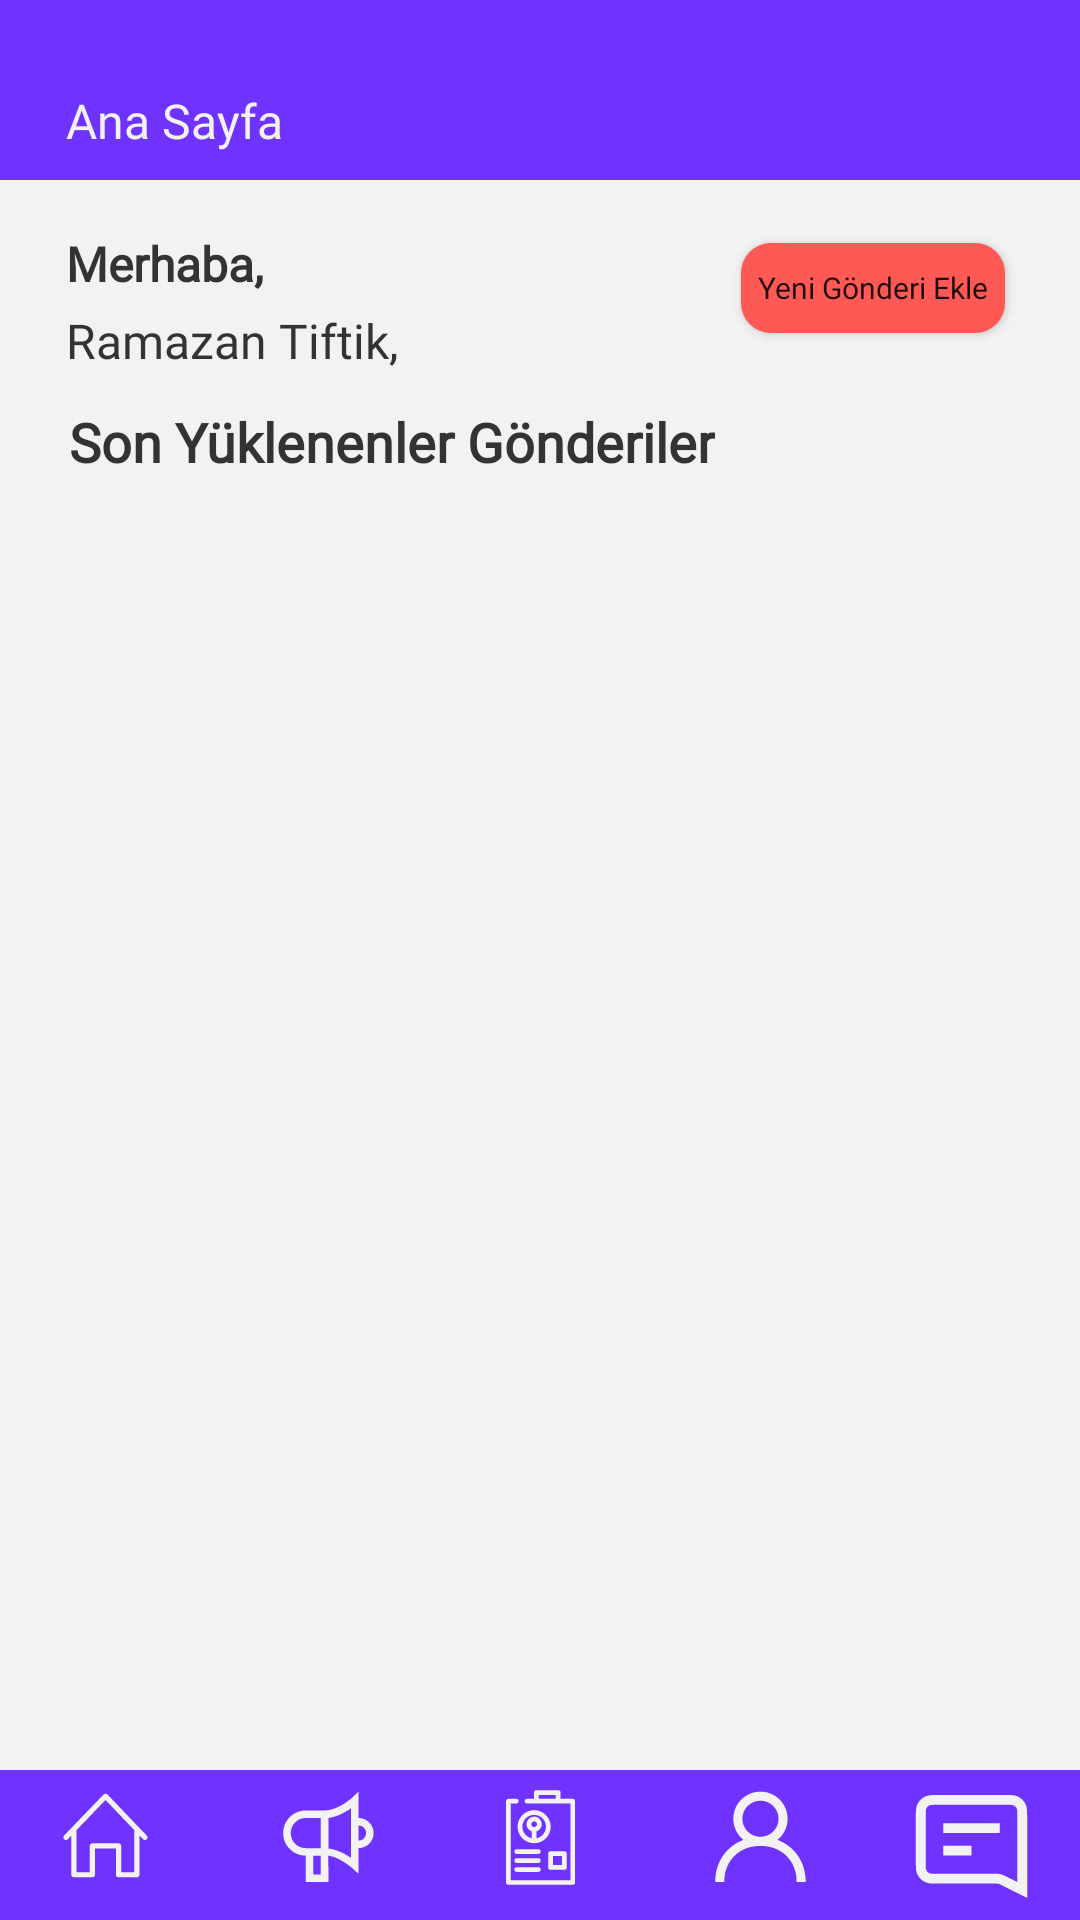

Icon bounding boxes for this 1080 x 1920 phone screenshot, format (x1, y1, x2, y2):
announcement: (283, 1792, 374, 1882)
homepagebtn: (63, 1793, 148, 1878)
messagebtn: (915, 1795, 1028, 1898)
profilebtn: (715, 1791, 806, 1882)
